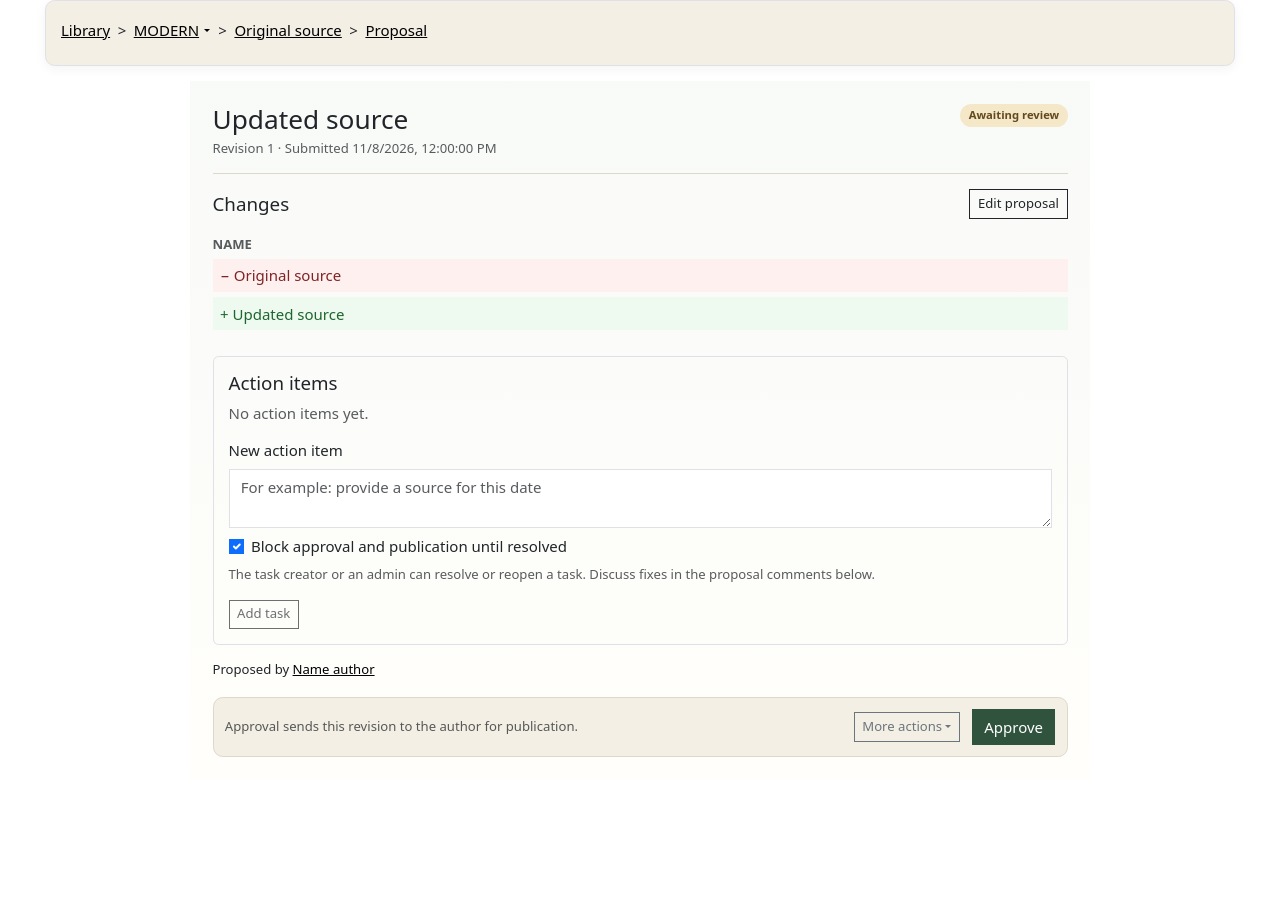
approval stays on the proposal and does not publish or navigate to the public source
What coordinates should you click on to do the following:
click the button "Approve"
I would click on:
 (1014, 727)
Its box is [972, 709, 1055, 745].
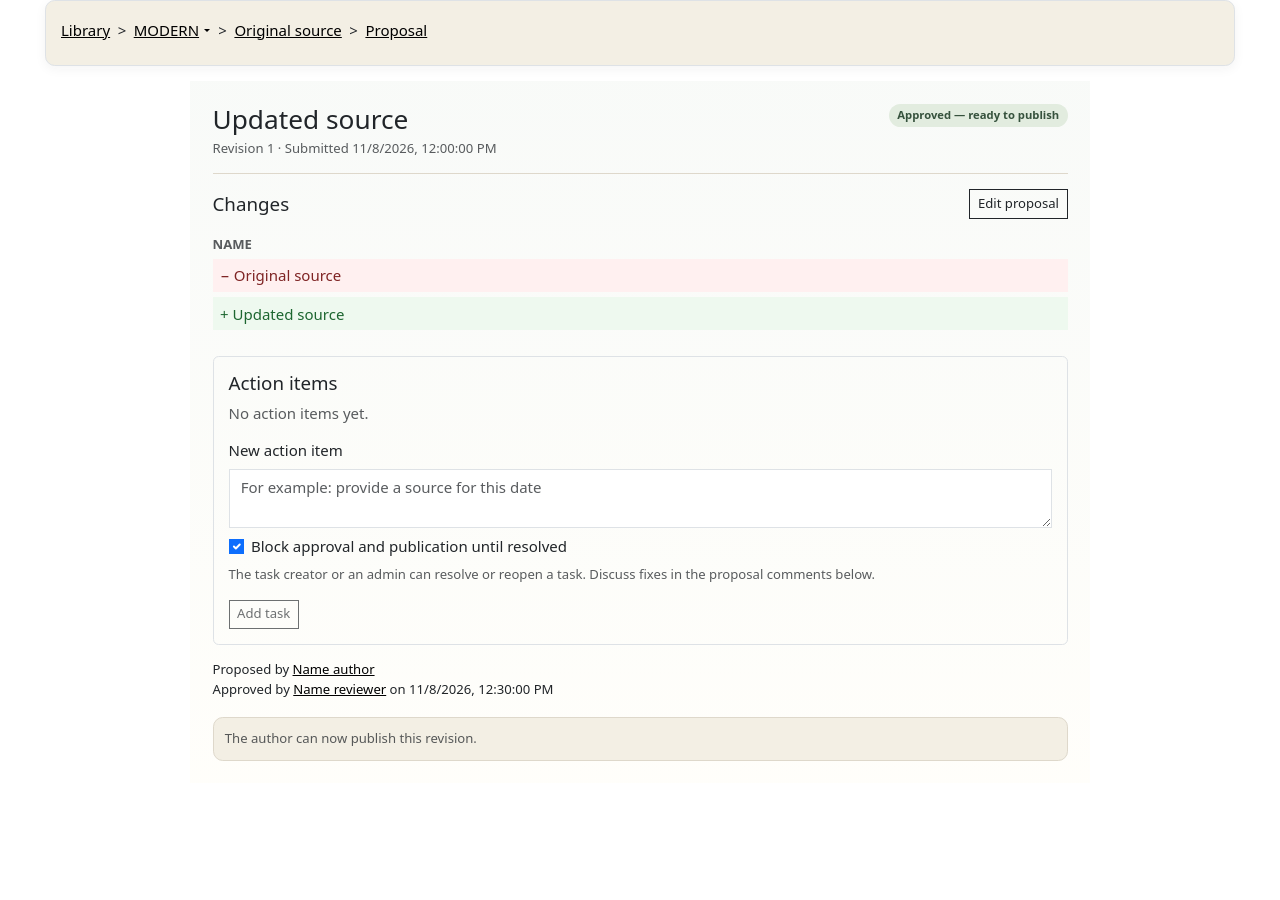
Expected: the text "Approved — ready to publish" is shown, [889, 104, 1068, 127]
